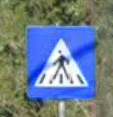trecere_pietoni: (25, 25, 97, 100)
